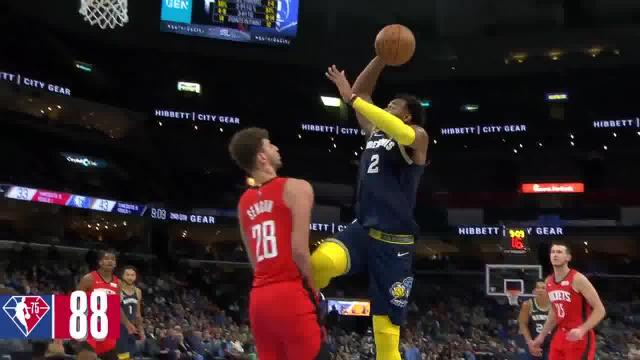ball-handler: (301, 23, 427, 360)
player: (224, 124, 333, 360), (525, 245, 606, 360), (78, 249, 124, 360), (515, 277, 559, 360), (108, 266, 142, 360)
